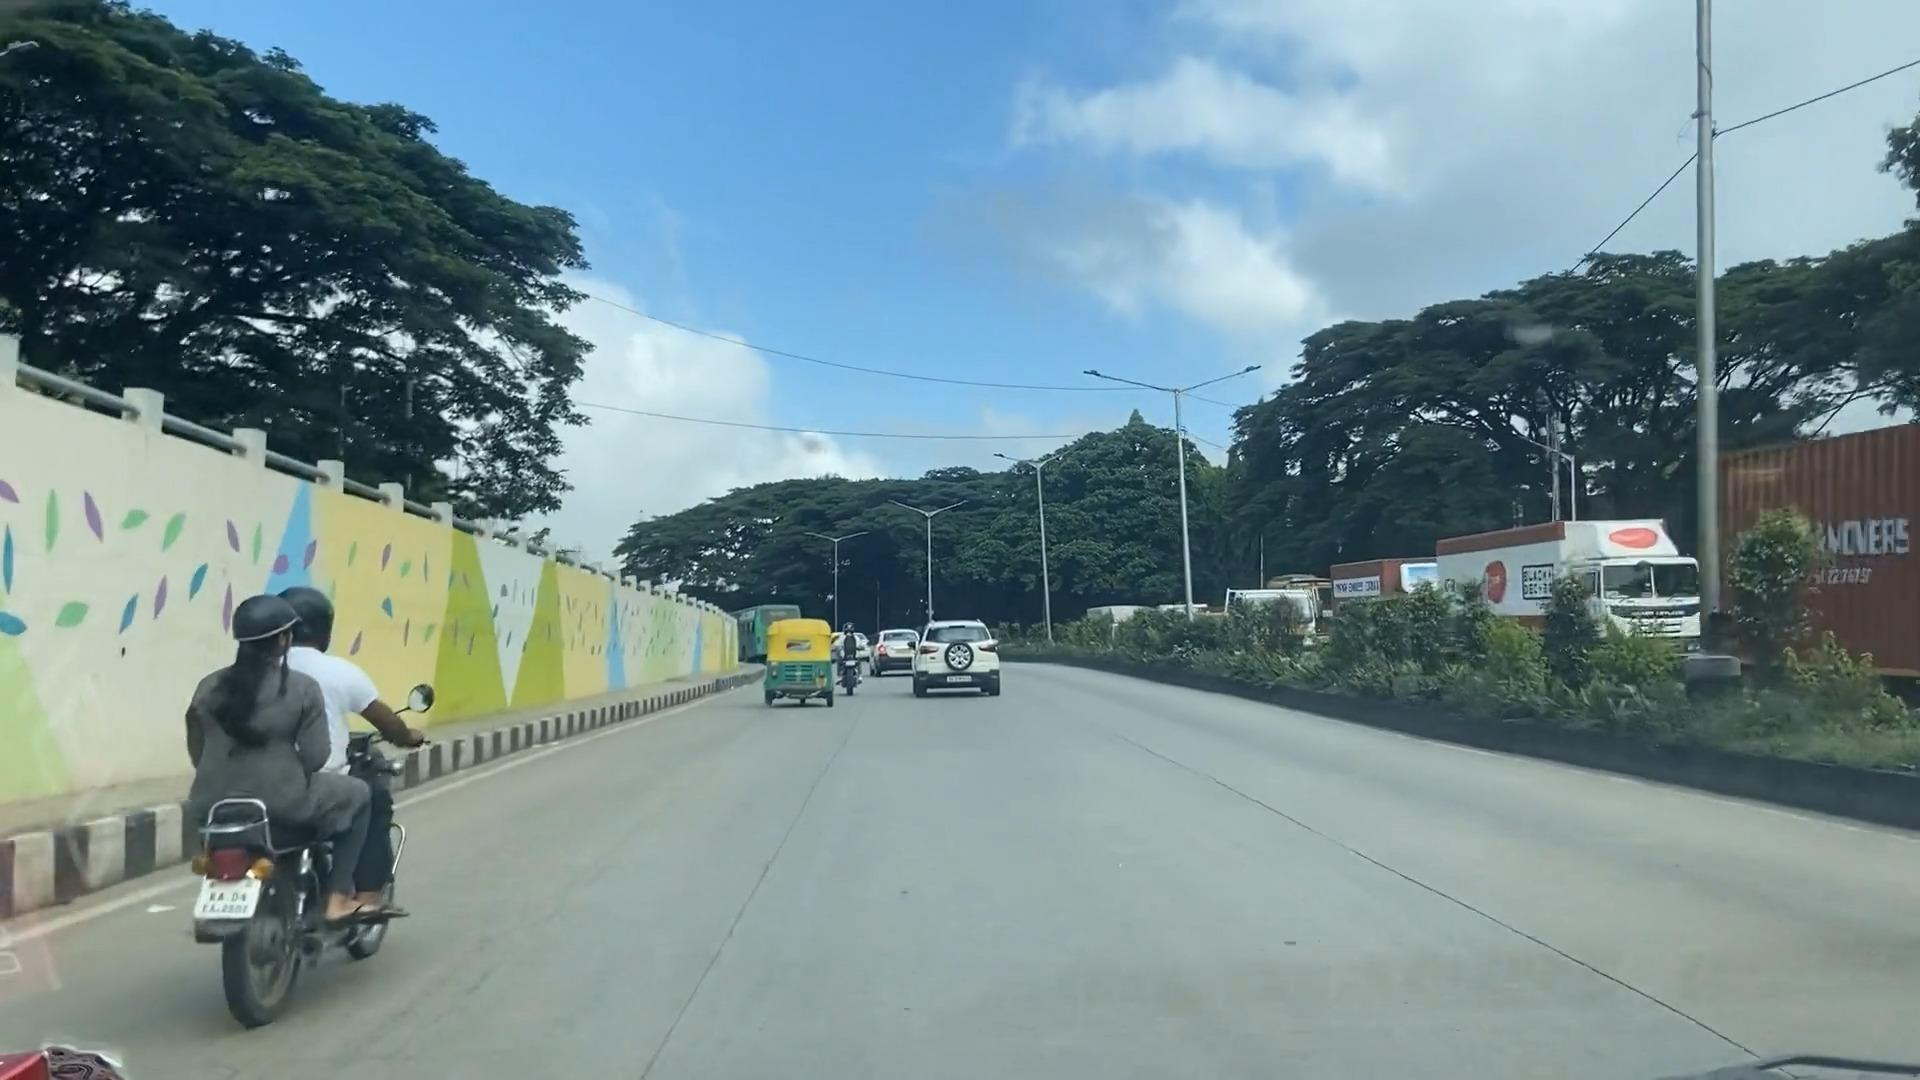LMV: (215, 583, 394, 1014), (919, 620, 997, 691), (766, 618, 831, 704)
